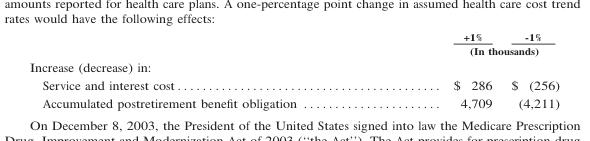table: (29, 29, 559, 110)
table column: (29, 29, 446, 110), (501, 29, 559, 110), (446, 29, 501, 110)
table column header: (29, 29, 559, 57)
table projected row header: (29, 57, 559, 75)
table row: (29, 57, 559, 75), (29, 92, 559, 110), (29, 75, 559, 92), (29, 29, 559, 43), (29, 43, 559, 57)
table spanning cell: (446, 43, 559, 57)
